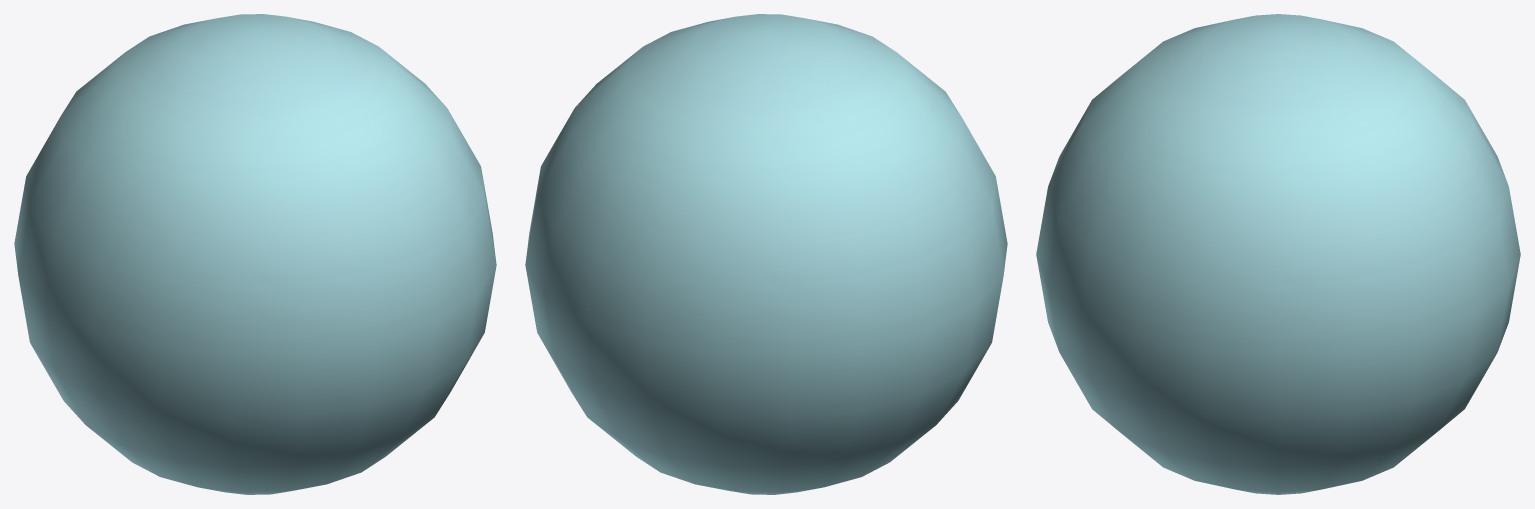
Rendered from Uranus_ring.glb.
3 views of the same model, side by side, from view 1: azimuth 30°, elevation 25°; view 2: azimuth 150°, elevation 25°; view 3: azimuth 270°, elevation 25° (orthographic).
Visible parts, largest first — view 1: Uranus; view 2: Uranus; view 3: Uranus.
Boxes of the visible parts, box(x1,y1,x2,y2) form: Uranus: box(14, 14, 496, 494); Uranus: box(525, 14, 1007, 494); Uranus: box(1036, 14, 1520, 494).
Size of what is drawn, in the model's own units: 0.7726 by 0.7726 by 0.7726.
Materials: 1 (1 with a texture image).
